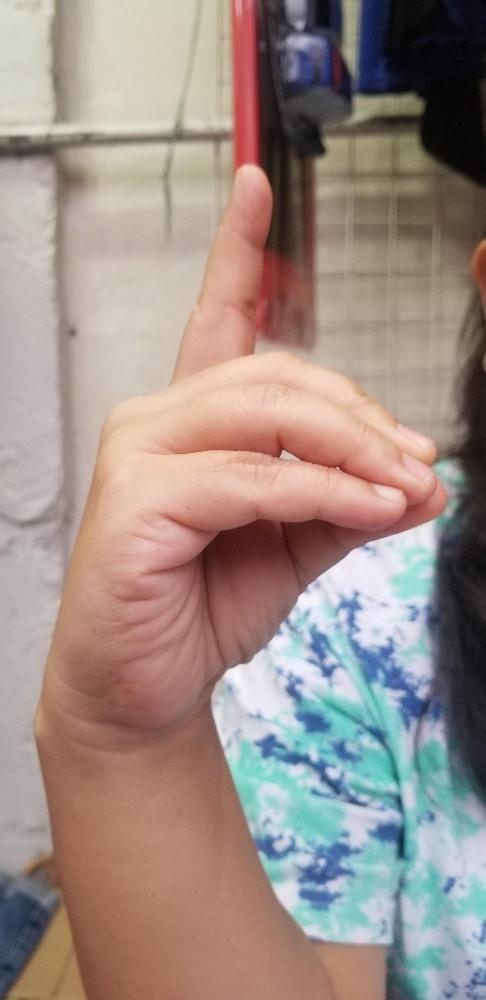d: (46, 160, 449, 716)
